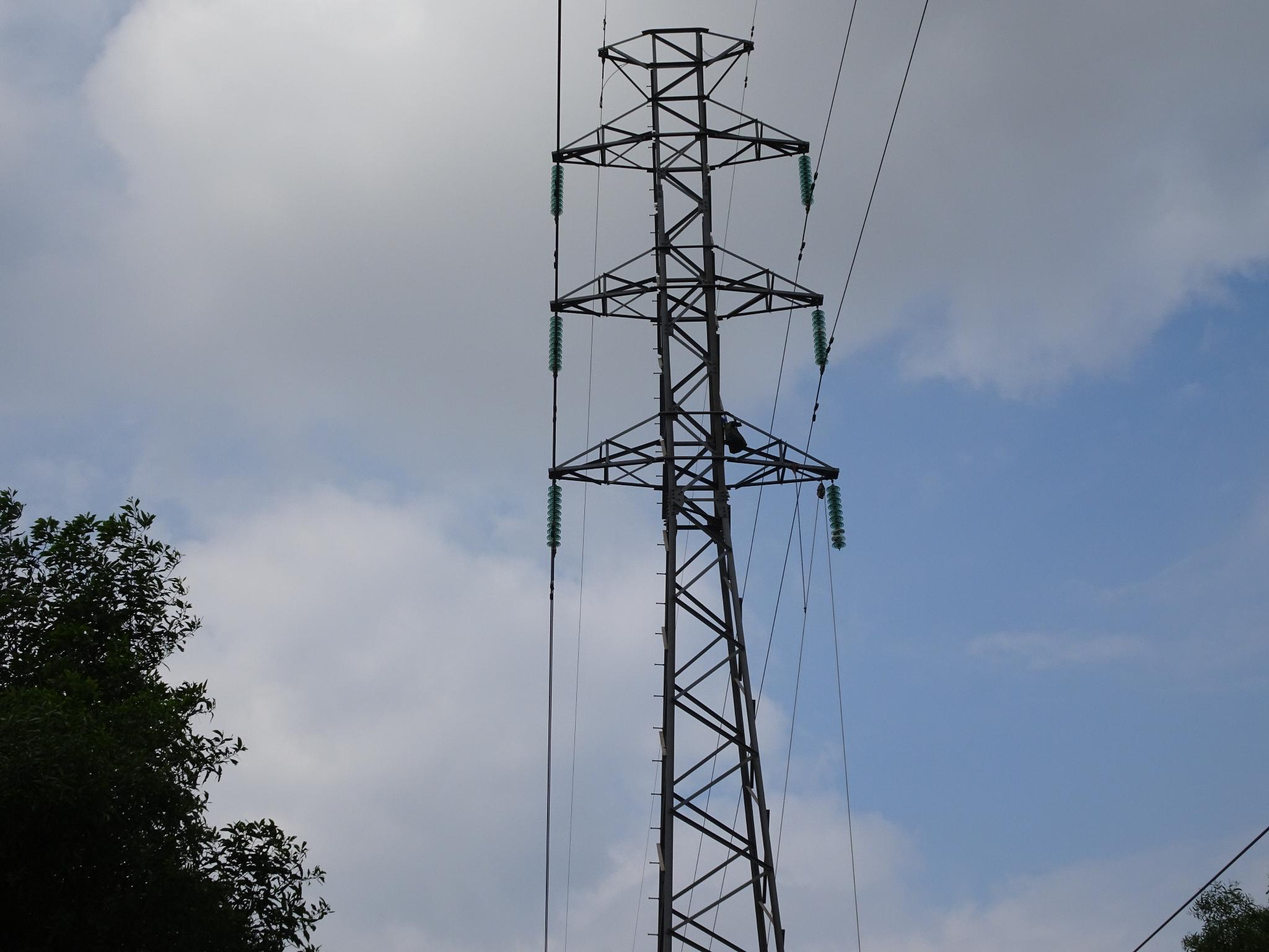tower: (532, 11, 860, 952)
